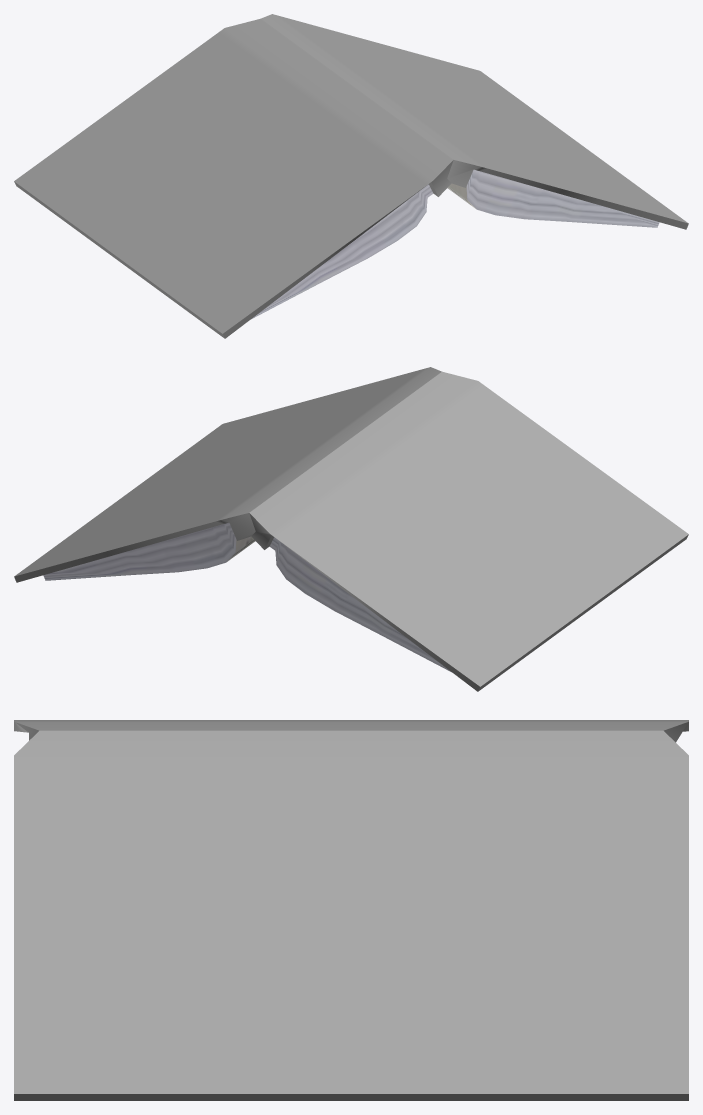
The model's file is upside_down_book_model.fbx.
3 renders of one model, top to bottom at view 1: azimuth 30°, elevation 25°; view 2: azimuth 150°, elevation 25°; view 3: azimuth 270°, elevation 25°, orthographic. The views are drawn at different scales.
Visible parts, largest first — view 1: pCube8; view 2: pCube8; view 3: pCube8.
Boxes of the visible parts, x1,y1,x2,y2 form: pCube8: [14, 14, 688, 338]; pCube8: [14, 367, 688, 691]; pCube8: [14, 720, 688, 1100].
Size of the model in its own units: 0.0586 by 0.0143 by 0.0454.
